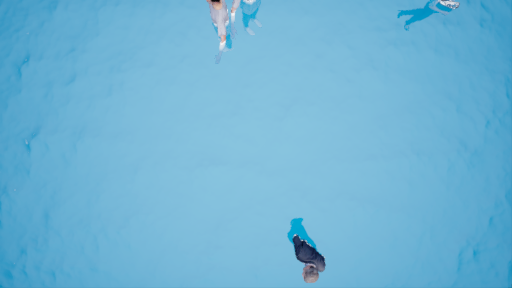person: (278, 214, 335, 288), (197, 1, 238, 61), (393, 1, 487, 23), (228, 1, 270, 36)
